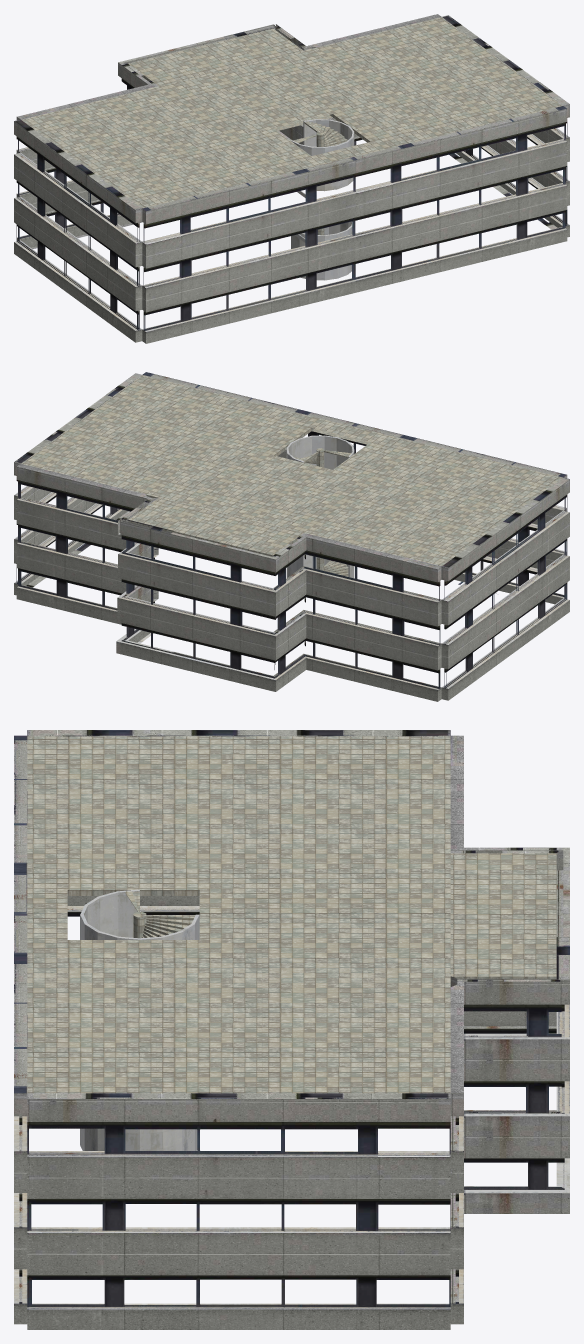
Rendered from BagSS05mid_300.fbx.
3 views of the same model, one above another, from view 1: azimuth 30°, elevation 25°; view 2: azimuth 150°, elevation 25°; view 3: azimuth 270°, elevation 25° (orthographic). The views are drawn at different scales.
Visible parts, largest first — view 1: midMain300, midCeiling300, midWalls300, midStairs300; view 2: midMain300, midCeiling300, midWalls300, midStairs300; view 3: midCeiling300, midMain300, midWalls300, midStairs300.
Boxes of the visible parts, x1,y1,x2,y2 form: midMain300: (14, 14, 569, 343); midCeiling300: (21, 17, 562, 208); midWalls300: (14, 117, 569, 331); midStairs300: (293, 121, 347, 235); midMain300: (14, 372, 569, 701); midCeiling300: (21, 375, 562, 566); midWalls300: (14, 435, 569, 689); midStairs300: (294, 448, 351, 576); midCeiling300: (27, 736, 556, 1093); midMain300: (14, 730, 569, 1329); midWalls300: (14, 889, 569, 1309); midStairs300: (125, 891, 195, 938).
Size of the model in its own units: 42.25 by 12.33 by 26.9.
